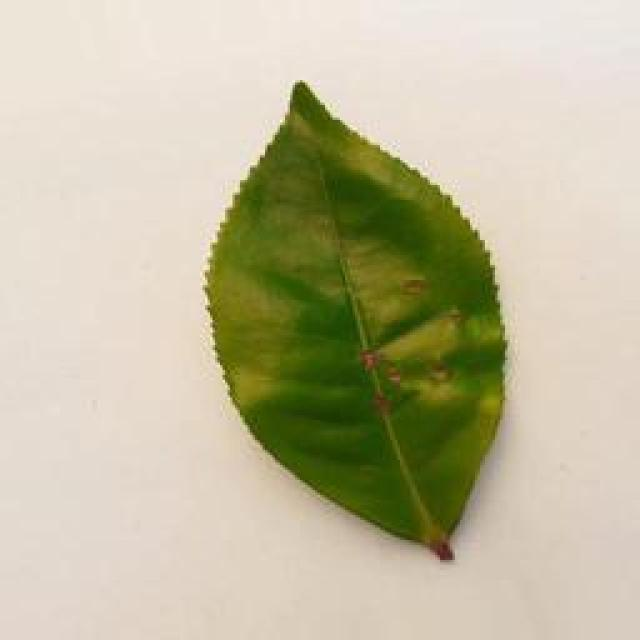Helopeltis: (203, 68, 534, 566)
